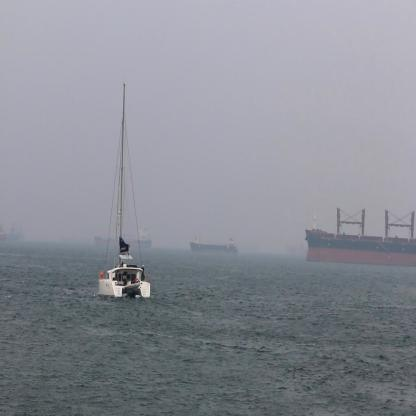Container Ship: (305, 208, 415, 263), (94, 230, 152, 248), (188, 236, 237, 254), (1, 222, 18, 244)
